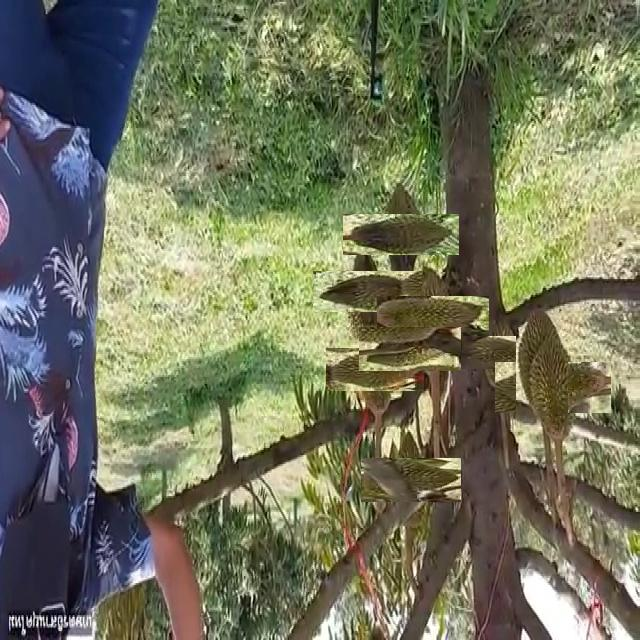durian: (510, 346, 594, 430), (362, 195, 441, 274), (516, 301, 568, 420), (395, 278, 472, 355), (329, 254, 405, 329), (373, 312, 446, 386), (375, 443, 447, 516), (339, 334, 411, 405), (471, 324, 529, 382)
